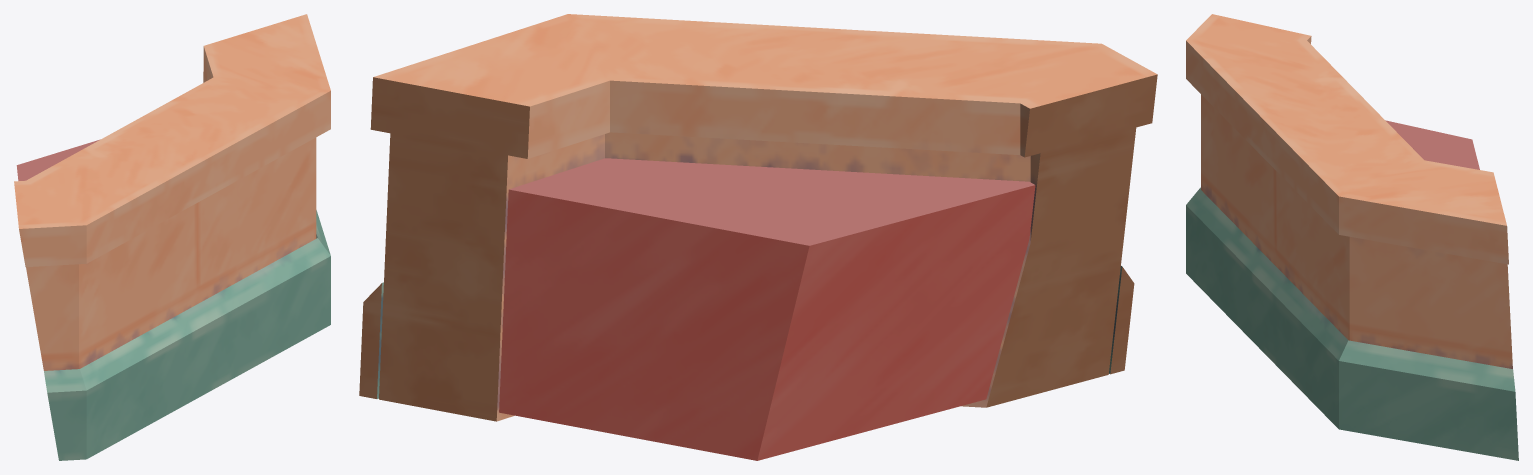
Rendered from vat_s05.fbx.
3 renders of one model, left to right at view 1: azimuth 30°, elevation 25°; view 2: azimuth 150°, elevation 25°; view 3: azimuth 270°, elevation 25°, orthographic. The views are drawn at different scales.
Visible parts, largest first — view 1: vat_s05; view 2: vat_s05; view 3: vat_s05.
Part boxes in pixels (bbox=[...]): vat_s05: bbox=[14, 14, 330, 460]; vat_s05: bbox=[359, 14, 1157, 460]; vat_s05: bbox=[1186, 14, 1518, 460].
Size of the model in its own units: 3.35 by 1.7 by 2.2.
